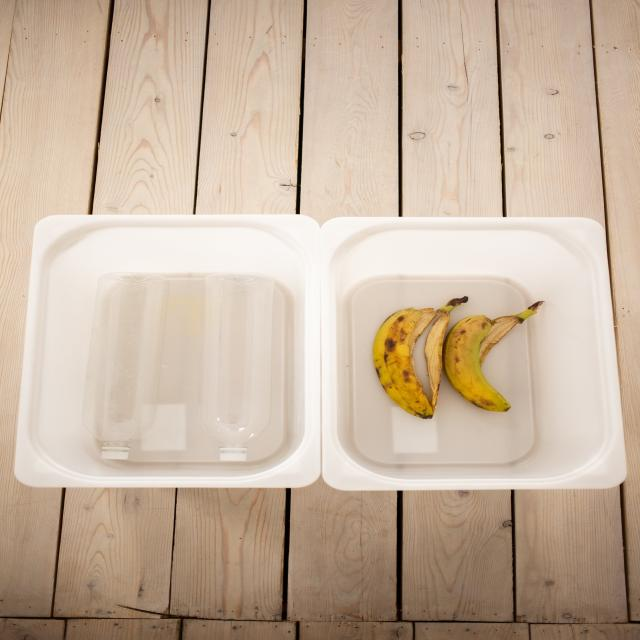plastic: (46, 218, 301, 478)
